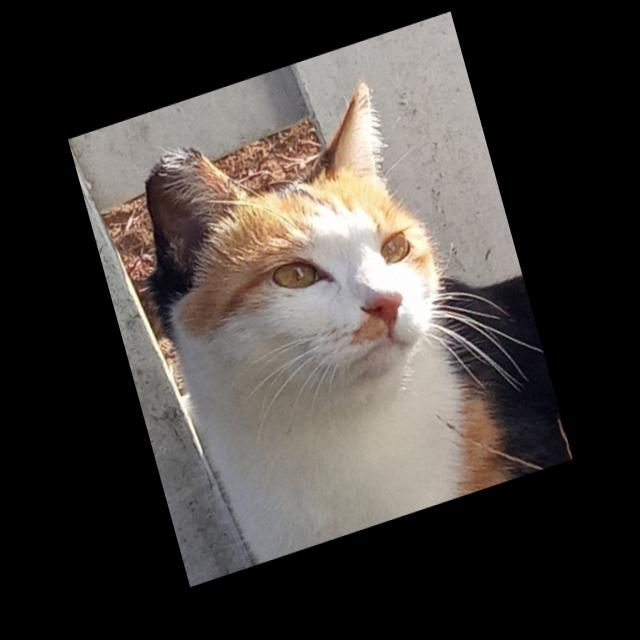animals: (120, 69, 478, 461)
